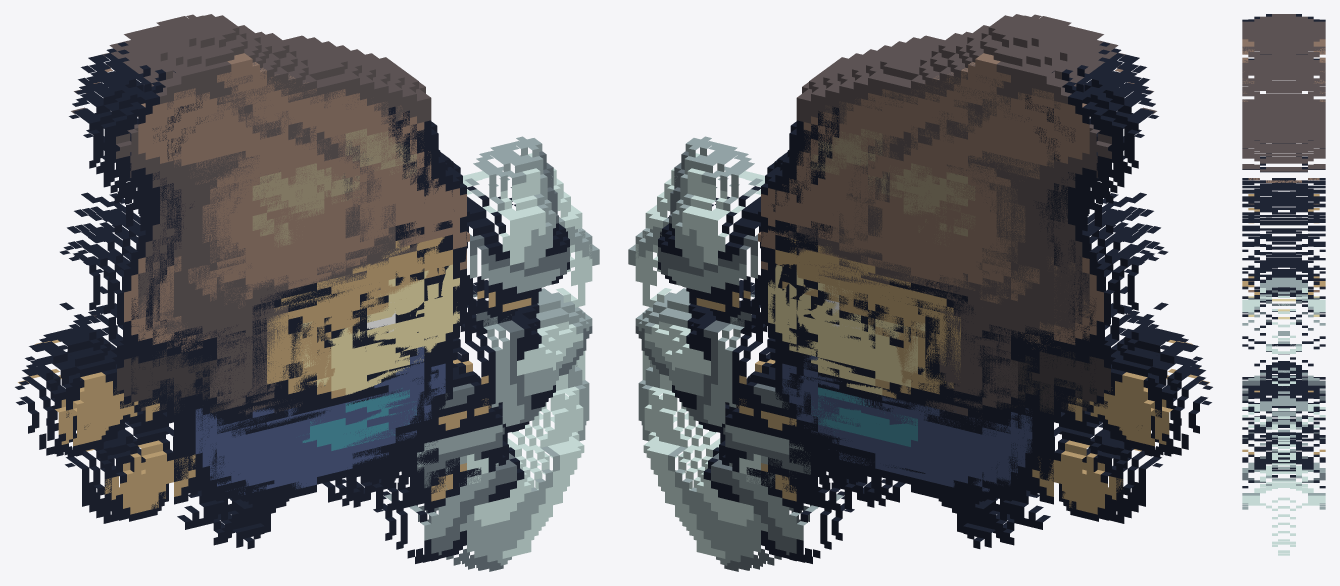
Rendered from faca_trabalhando.glb.
The picture shows the model from 3 angles, left to right: view 1: azimuth 30°, elevation 25°; view 2: azimuth 150°, elevation 25°; view 3: azimuth 270°, elevation 25°; orthographic projection. The views are drawn at different scales.
Visible parts, largest first — view 1: q0, q1, q2, q3; view 2: q0, q1, q2, q3; view 3: q1, q0, q2, q3.
Part boxes in pixels (x1,y1,x2,y2): q0: [58, 14, 569, 548]; q1: [15, 30, 599, 571]; q2: [22, 31, 592, 529]; q3: [65, 25, 592, 539]; q0: [658, 14, 1169, 548]; q1: [628, 30, 1212, 571]; q2: [635, 31, 1205, 529]; q3: [635, 25, 1162, 539]; q1: [1242, 33, 1325, 509]; q0: [1242, 14, 1325, 439]; q2: [1242, 54, 1325, 555]; q3: [1242, 44, 1325, 440].
Bounding box in the file's own units: 80 × 81 × 14.
Materials: 1 (1 with a texture image).
